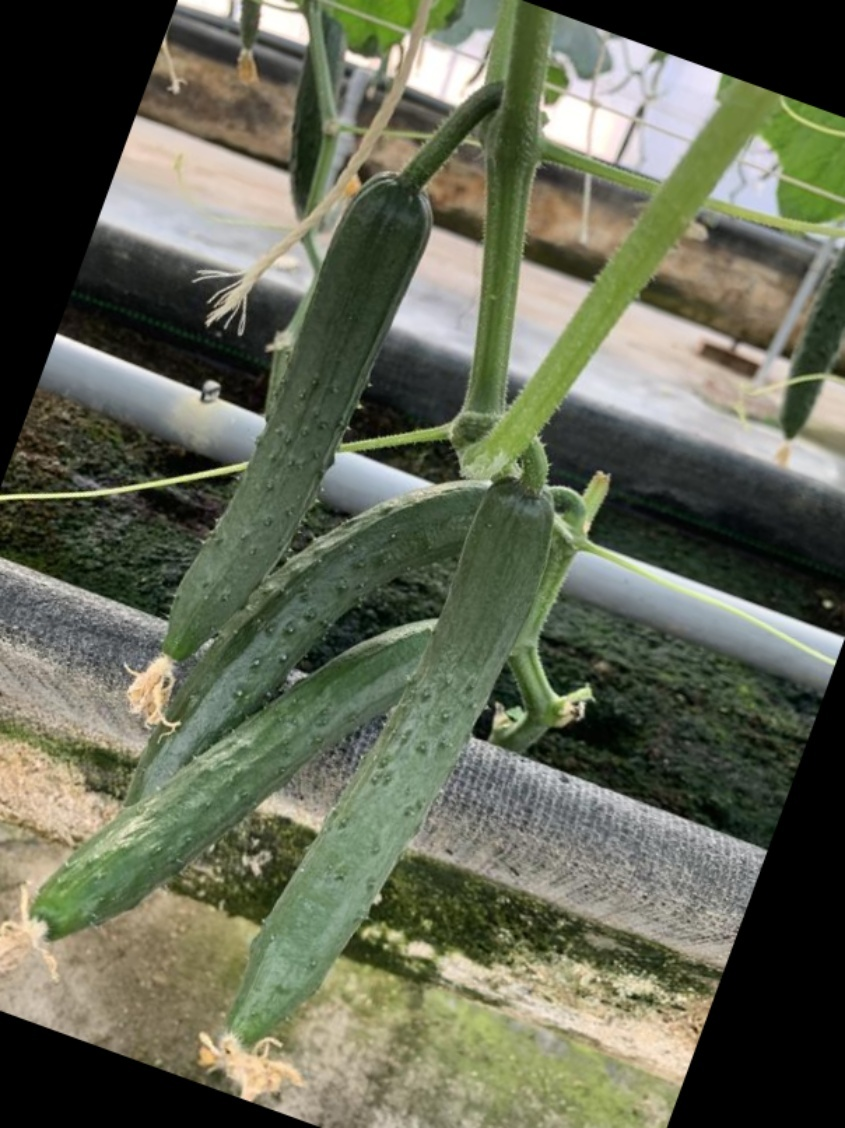mature: (215, 484, 554, 1042)
